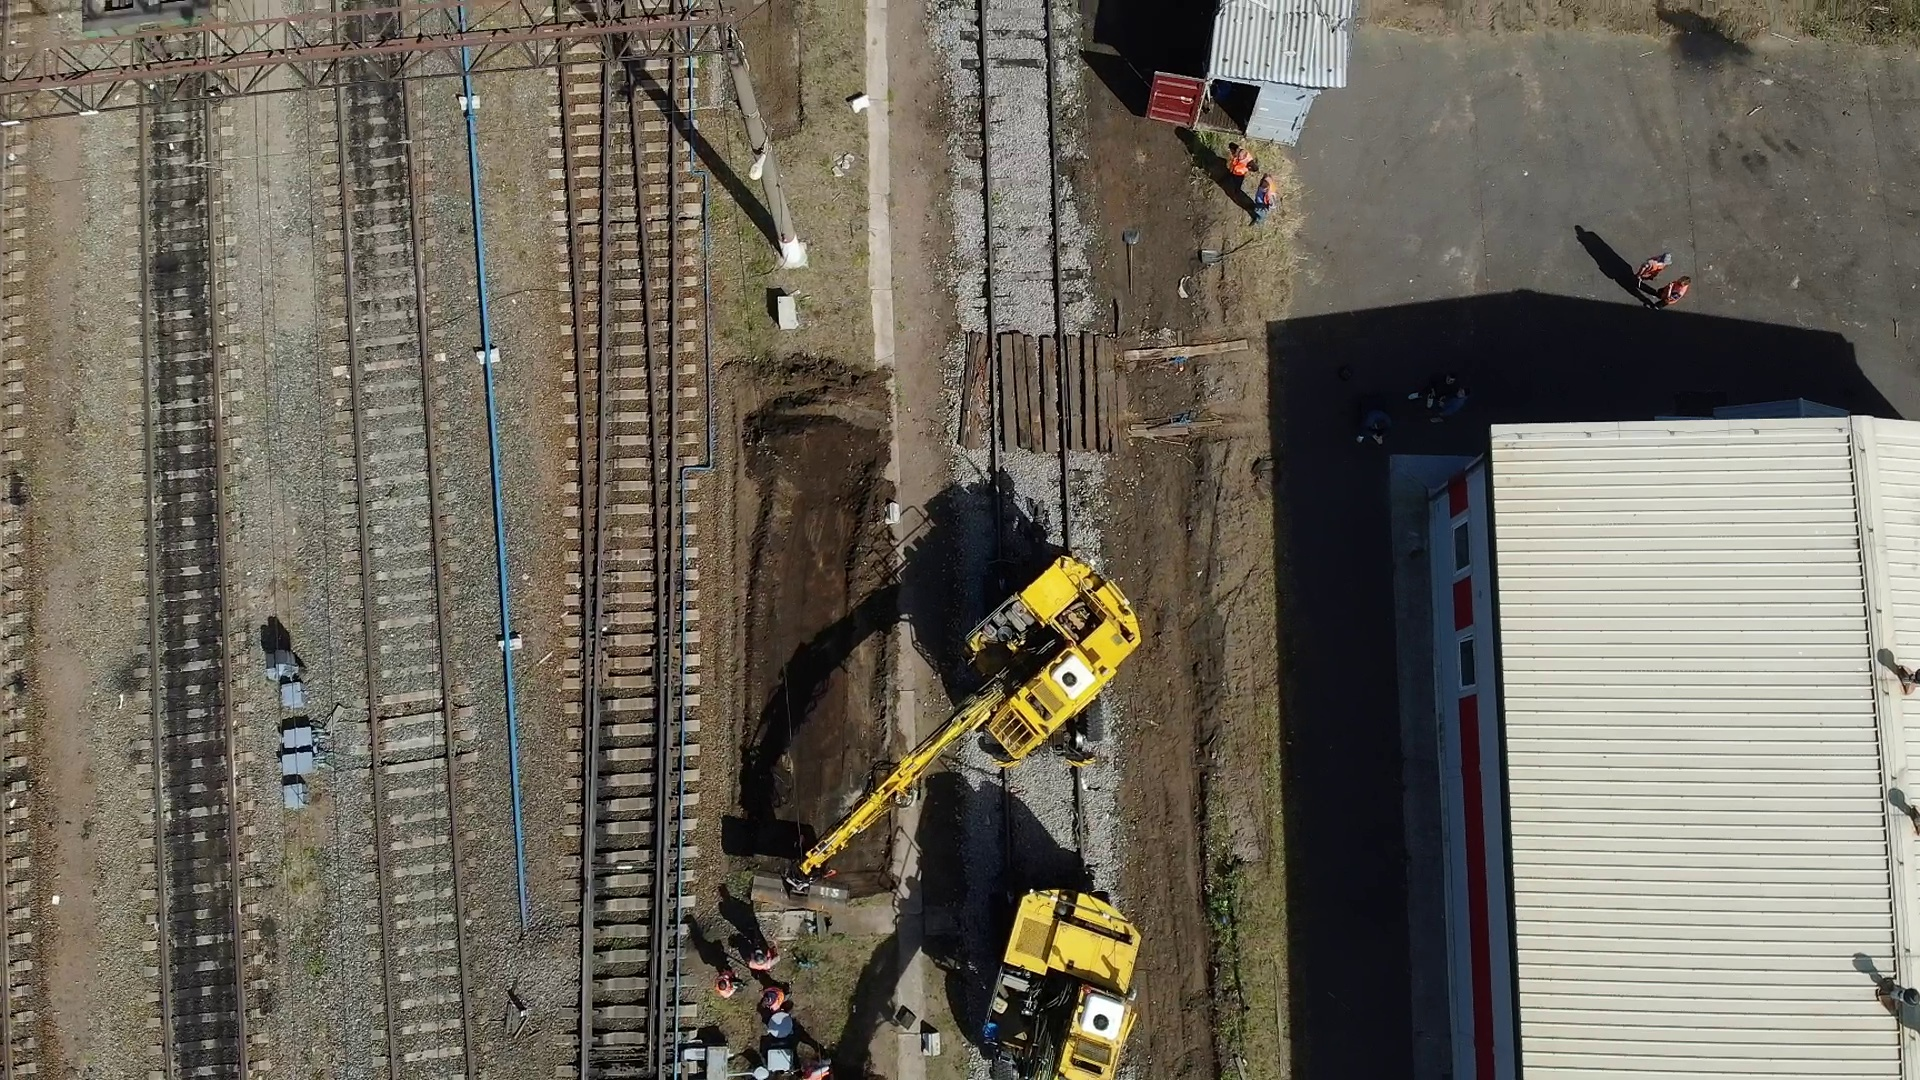kjtv: (980, 876, 1137, 1080), (968, 550, 1106, 769)
